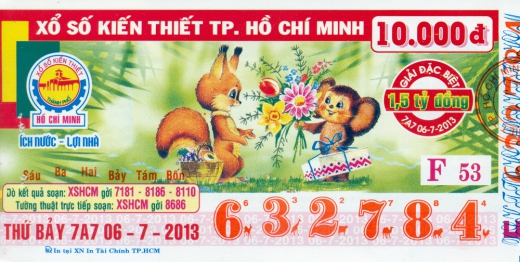serial_zone: (210, 193, 498, 245)
